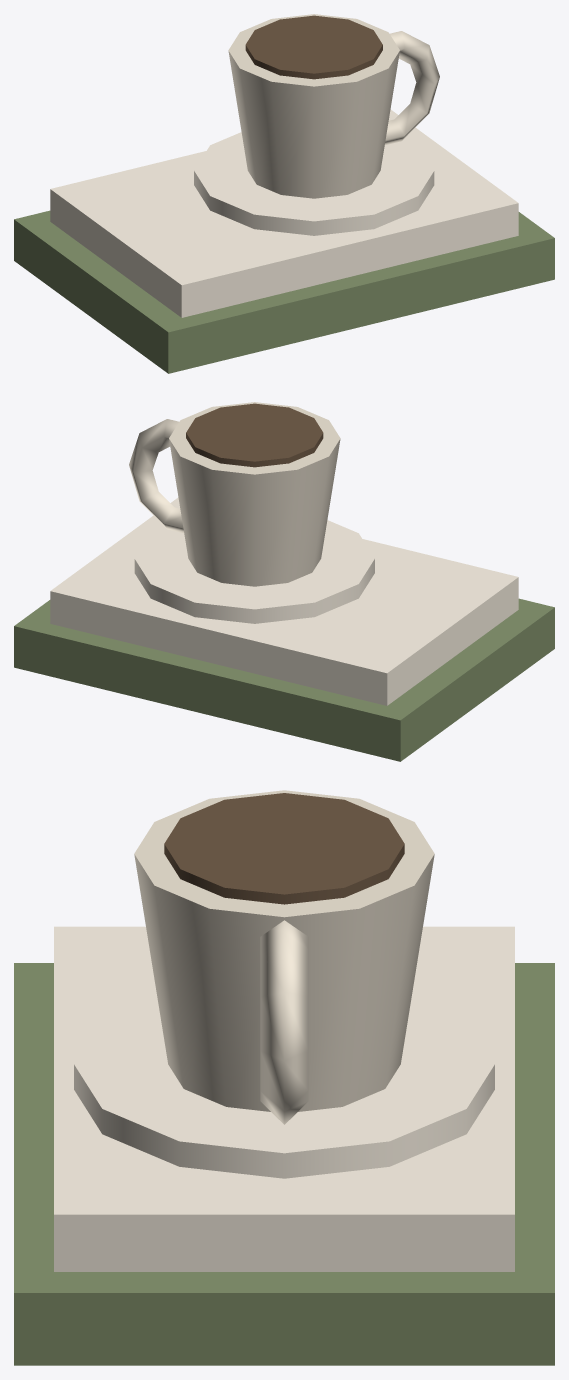
The model's file is bedroom_ref_tea.glb.
3 views of the same model, one above another, from view 1: azimuth 30°, elevation 25°; view 2: azimuth 150°, elevation 25°; view 3: azimuth 270°, elevation 25° (orthographic). The views are drawn at different scales.
Bounding box in the file's own units: 0.39 × 0.2105 × 0.27.
